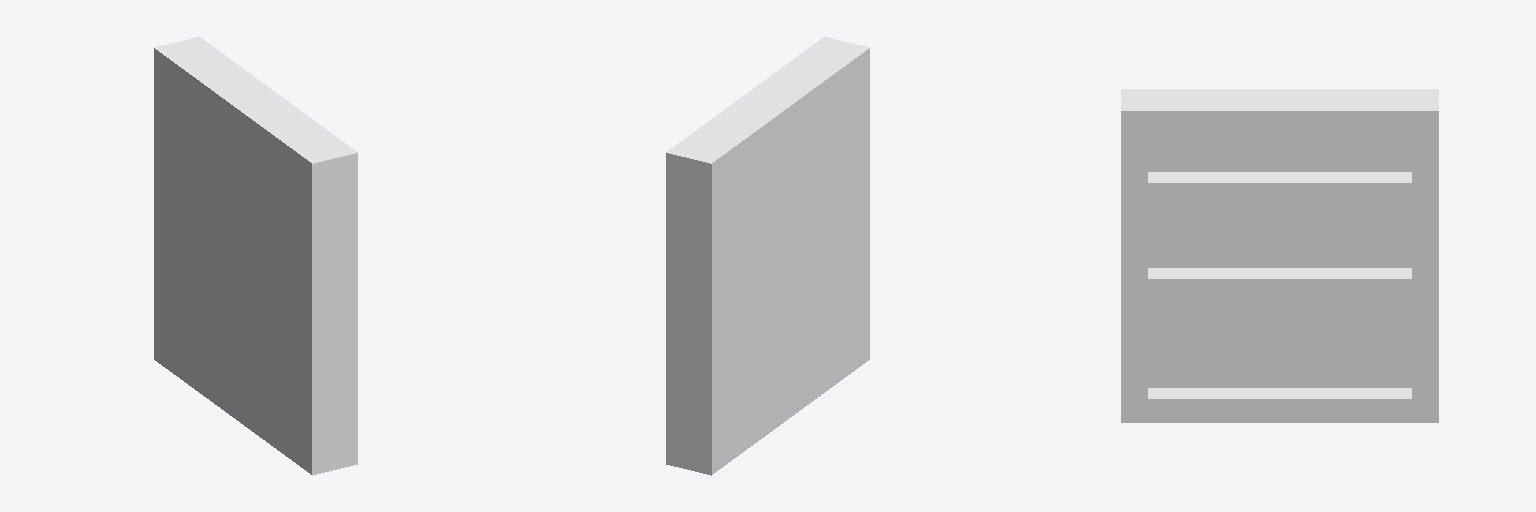
File: Red-house-3-Window3.obj
3 renders of one model, left to right at view 1: azimuth 30°, elevation 25°; view 2: azimuth 150°, elevation 25°; view 3: azimuth 270°, elevation 25°, orthographic.
Parts seen in each view (by area): view 1: Window3; view 2: Window3; view 3: Window3.
Part boxes in pixels (x1,y1,x2,y2): Window3: (154, 36, 357, 475); Window3: (666, 36, 869, 475); Window3: (1121, 89, 1438, 422).
Bounding box in the file's own units: 0.2 × 1.3 × 1.2.